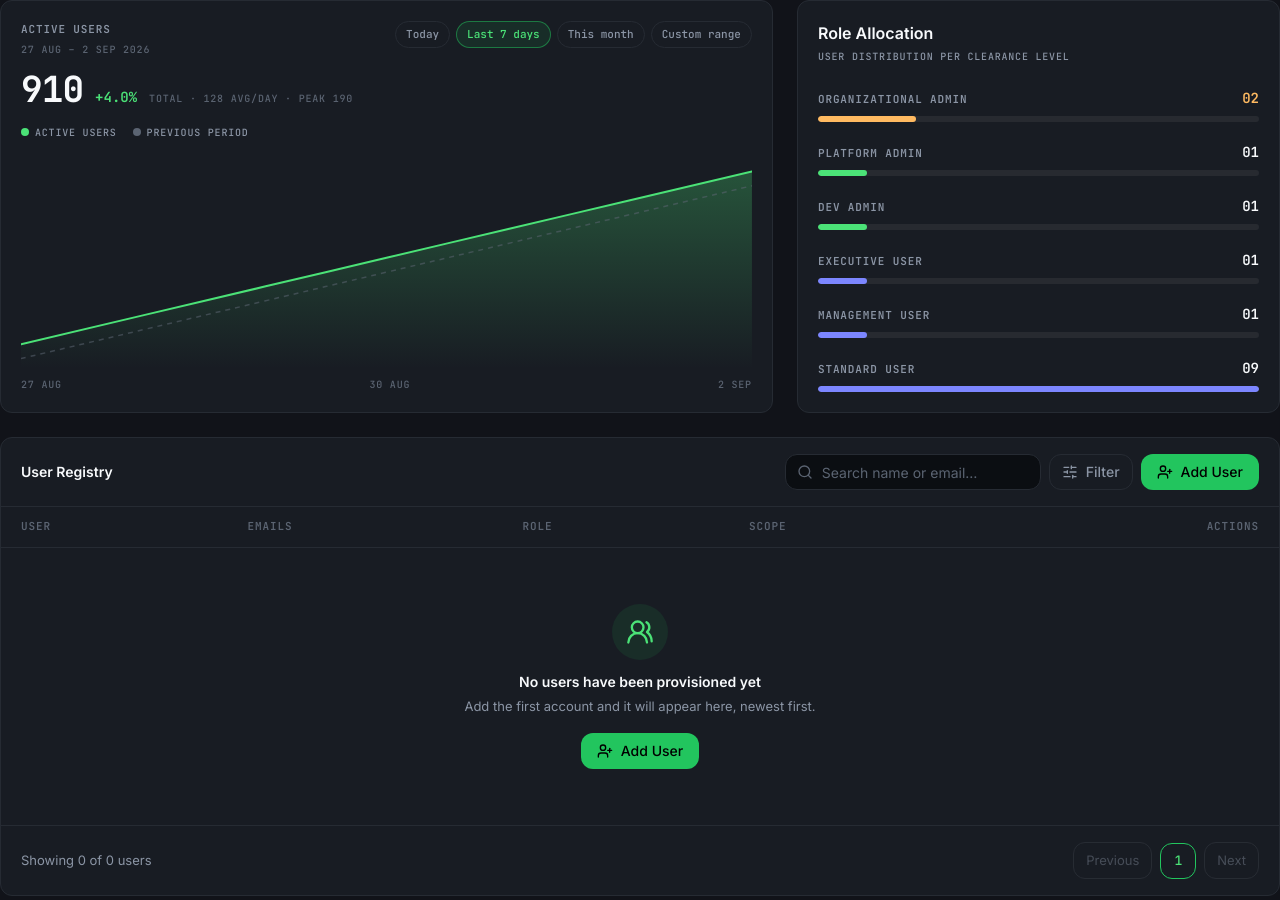
Test: User Management — empty states › invites the first user when the registry is genuinely empty
The width and height of the screenshot is (1280, 900).
Check: the text "No users have been provisioned yet" is shown, box [519,673,761,690]
// And it opens the same dialog as the header button.
Click the button "Add User" below "No users have been provisioned yet". click: (640, 751)
box: [581,733,699,769]
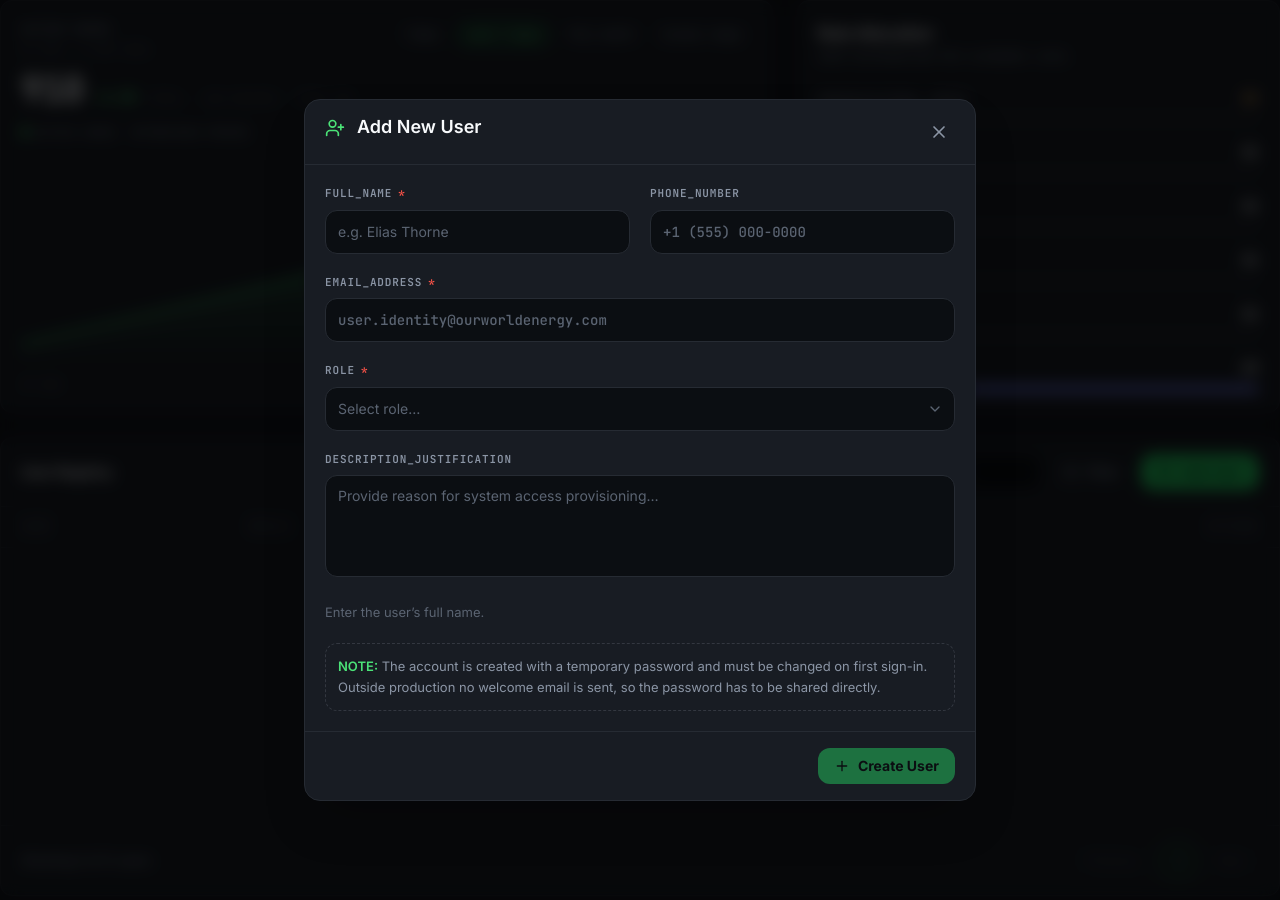
Check: the field labelled "full_name*" is shown, box [325,210,630,254]
